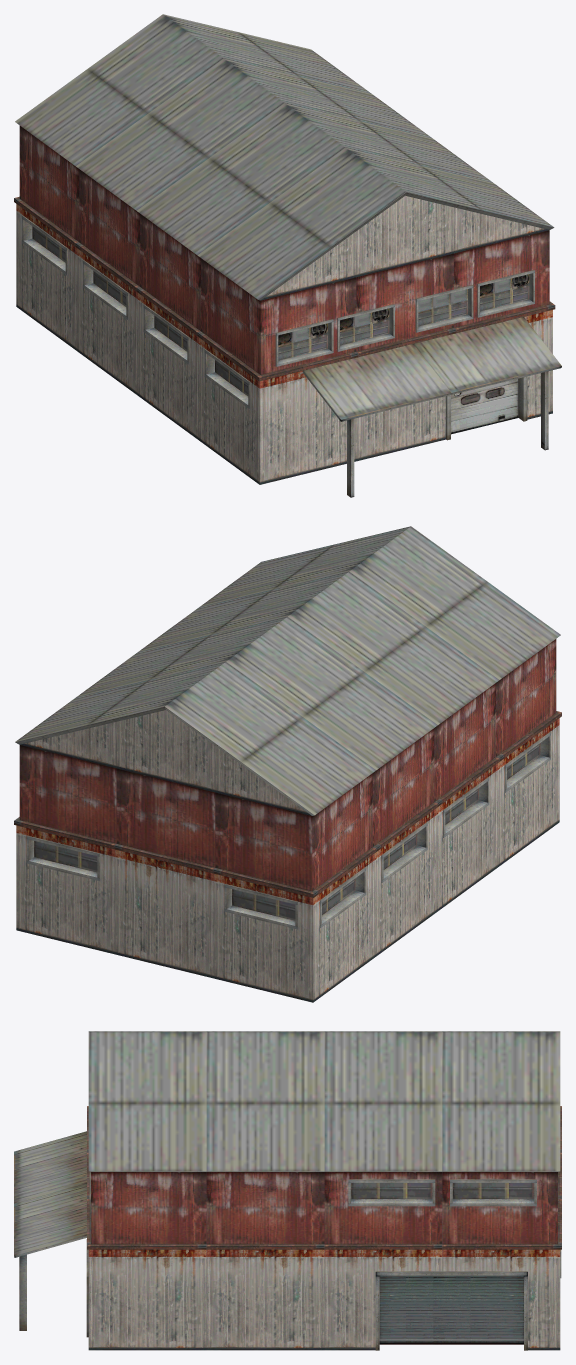
File: Building4.fbx
3 views of the same model, one above another, from view 1: azimuth 30°, elevation 25°; view 2: azimuth 150°, elevation 25°; view 3: azimuth 270°, elevation 25° (orthographic). The views are drawn at different scales.
Visible parts, largest first — view 1: Building_6; view 2: Building_6; view 3: Building_6.
Boxes of the visible parts, x1,y1,x2,y2 form: Building_6: (14,14,561,497); Building_6: (14,526,561,1002); Building_6: (14,1031,561,1350).
Size of the model in its own units: 13.86 by 11.47 by 22.91.
